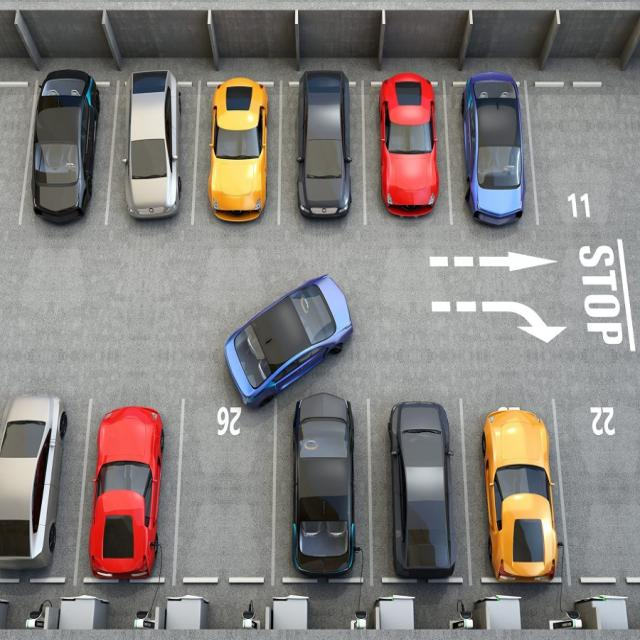libre: (180, 399, 268, 575), (558, 390, 638, 578), (537, 80, 621, 235)
ocupado: (24, 67, 538, 241), (273, 390, 569, 591), (2, 385, 179, 588)
